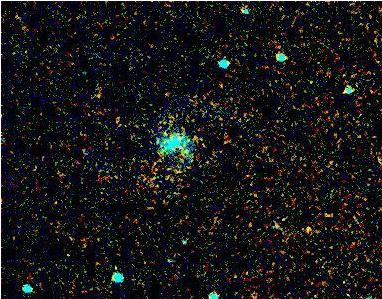star: (295, 217, 325, 247)
